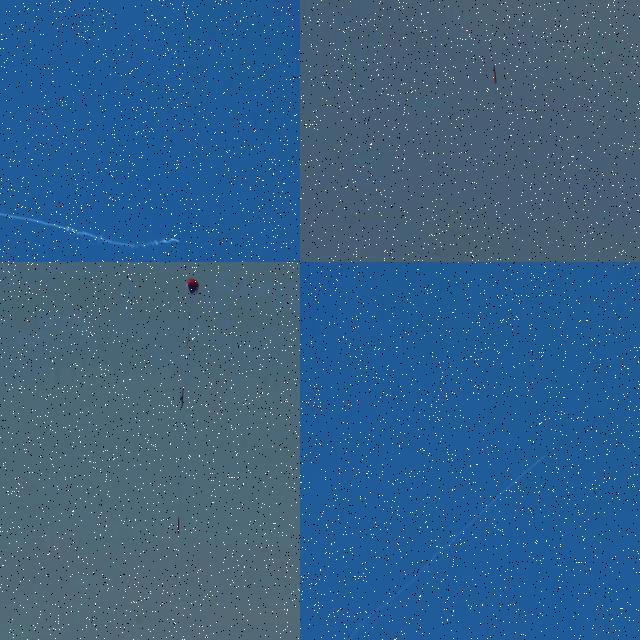Rocket: (493, 65, 497, 84), (177, 517, 180, 534), (179, 240, 180, 244), (543, 455, 545, 457)
